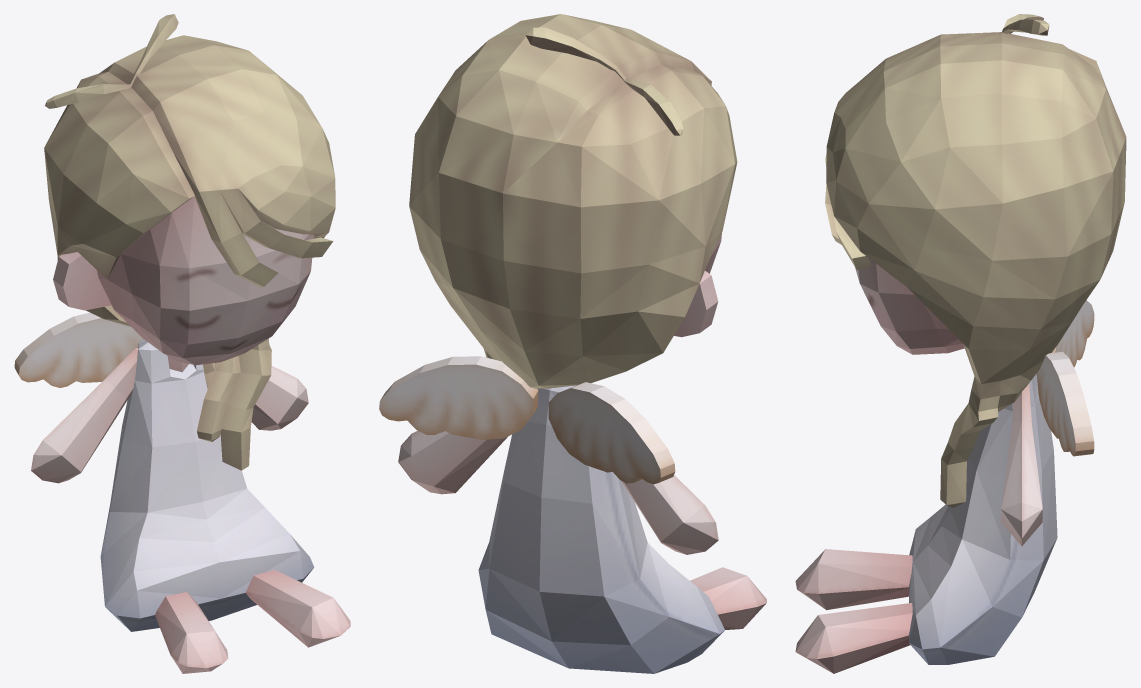
File: Namine_Doll.obj
3 renders of one model, left to right at view 1: azimuth 30°, elevation 25°; view 2: azimuth 150°, elevation 25°; view 3: azimuth 270°, elevation 25°, orthographic. The views are drawn at different scales.
Visible parts, largest first — view 1: rdmobj01, rdmobj00, rdmobj02; view 2: rdmobj01, rdmobj00, rdmobj02; view 3: rdmobj01, rdmobj00, rdmobj02.
Part boxes in pixels (x1,y1,x2,y2): rdmobj01: (44,14,335,470); rdmobj00: (14,252,350,673); rdmobj02: (31,196,314,483); rdmobj01: (409,14,737,388); rdmobj00: (379,271,766,673); rdmobj02: (398,233,721,554); rdmobj01: (825,14,1126,507); rdmobj00: (795,300,1094,673); rdmobj02: (855,258,1042,546).
Size of the model in its own units: 15.37 by 30.15 by 14.58.
3 materials, 3 textured.
